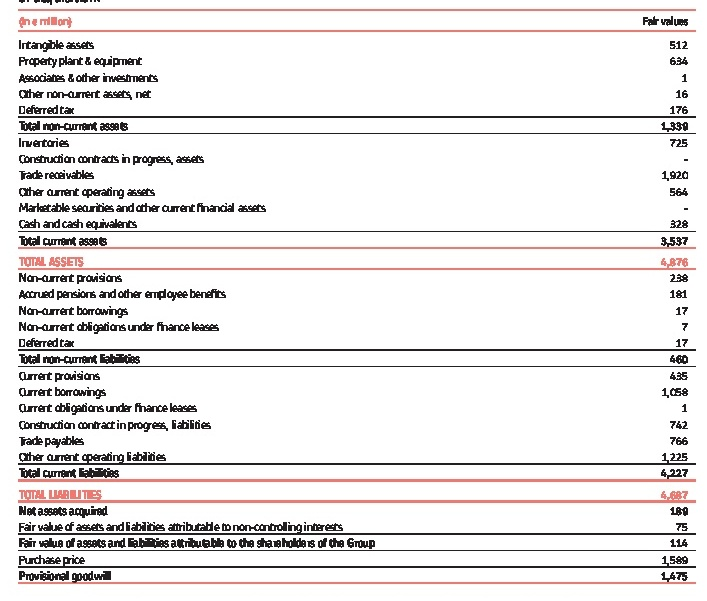table: (0, 0, 707, 601)
